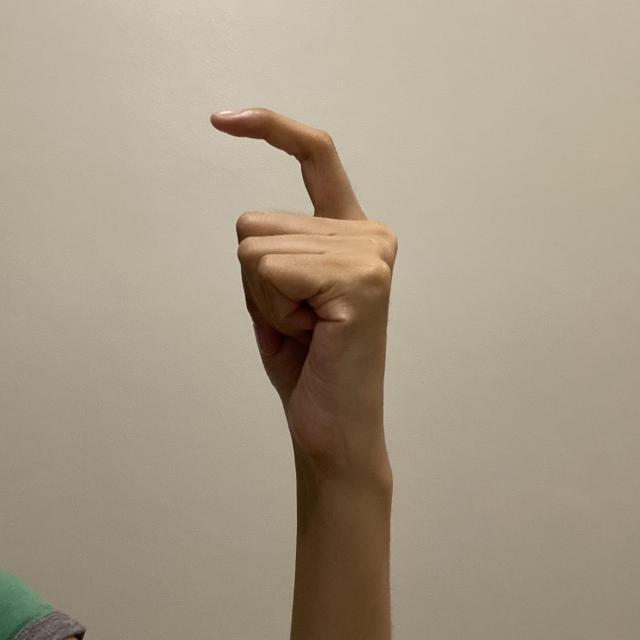X: (206, 101, 404, 498)
